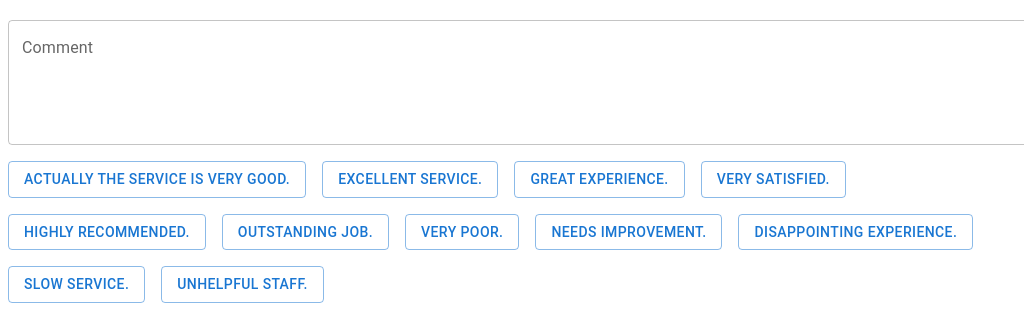
CommentBox Component with Formik › appends predefined text to existing value
The image size is (1024, 320).
Click the button "Actually the service is very good.".
click(157, 179)  # box [8, 161, 306, 198]
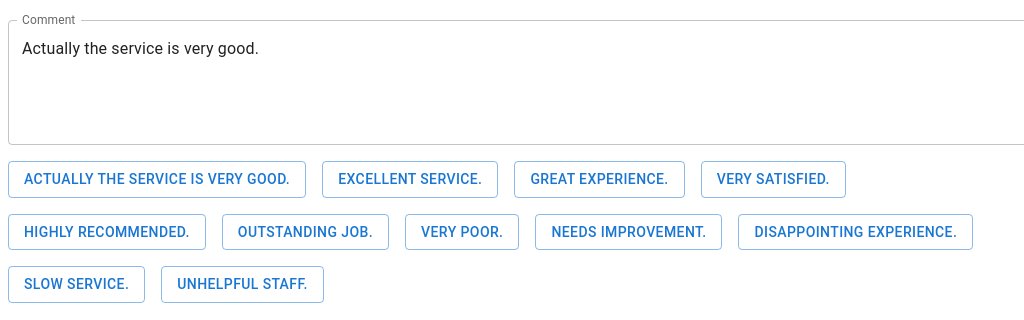
Check: the text box labelled "Comment" holds "Actually the service is very good.", box [22, 36, 1018, 128]
